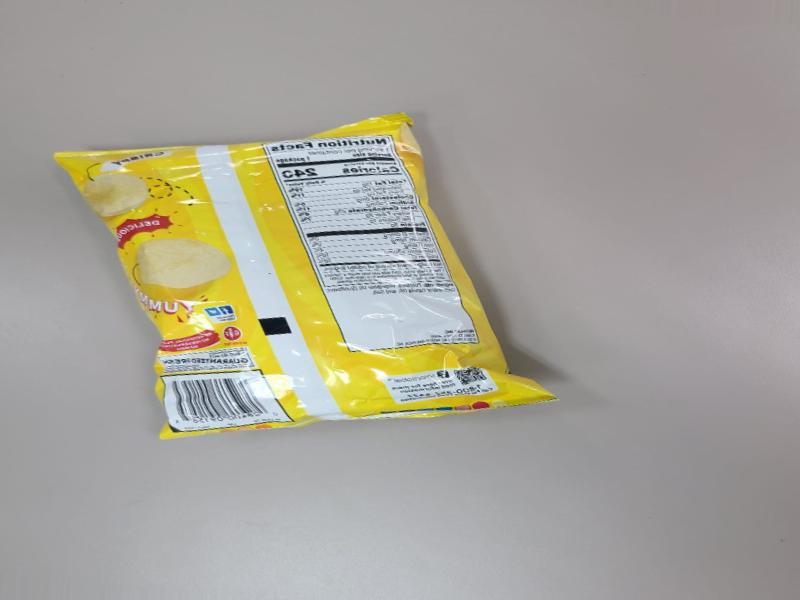lays: (115, 142, 507, 400)
